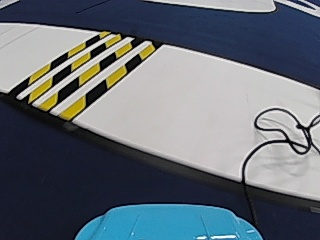bump: (16, 38, 124, 114)
